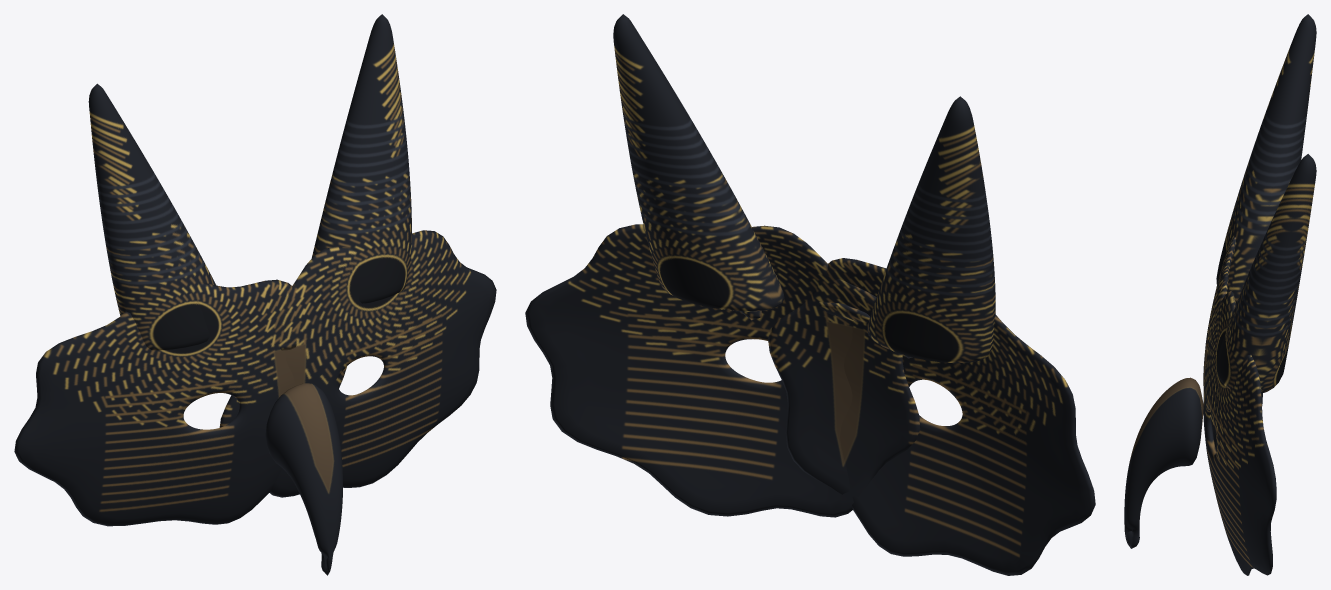
Rendered from nocturne-owl-mask.glb.
3 renders of one model, left to right at view 1: azimuth 30°, elevation 25°; view 2: azimuth 150°, elevation 25°; view 3: azimuth 270°, elevation 25°, orthographic. The views are drawn at different scales.
Visible parts, largest first — view 1: NocturneOwlMask; view 2: NocturneOwlMask; view 3: NocturneOwlMask.
Part boxes in pixels (x1,y1,x2,y2): NocturneOwlMask: (14, 14, 496, 575); NocturneOwlMask: (525, 14, 1095, 575); NocturneOwlMask: (1124, 14, 1316, 575).
Size of the model in its own units: 0.2573 by 0.236 by 0.0884.
1 material, 1 textured.
